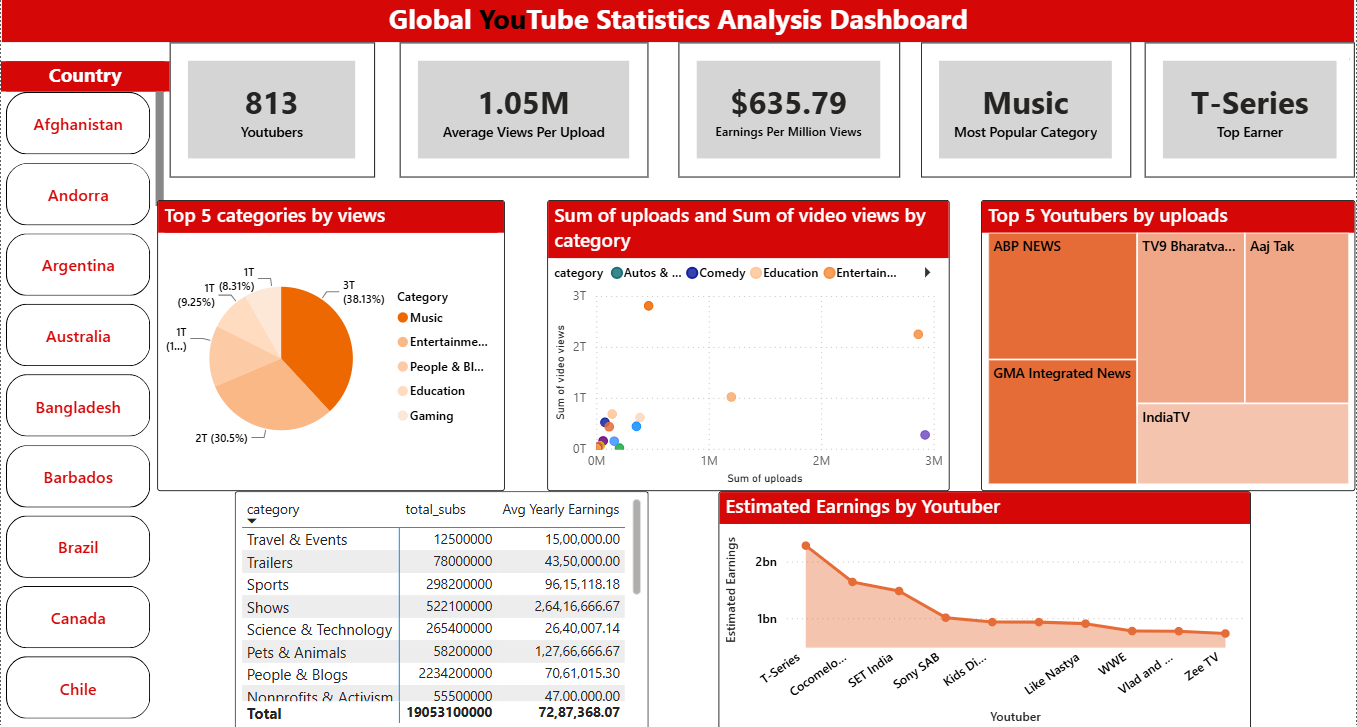

The page's visual inventory and layout, read from the dashboard file:
{"tool":"powerbi","page":{"name":"Page 1","canvas":[1326,720],"ordinal":0},"visuals":[{"type":"advancedSlicerVisual","fields":{"Values":["Global YouTube Statistics.Country"]},"box":[0,64.5,164.7,655.9],"z":0},{"type":"treemap","title":"Top 5 Youtubers by uploads","fields":{"Group":["Global YouTube Statistics.Youtuber"],"Values":["Sum(Global YouTube Statistics.uploads)"]},"box":[958.7,200.5,366.8,284.9],"z":1000},{"type":"pieChart","title":"Top 5 categories by views","fields":{"Category":["Global YouTube Statistics.category"],"Y":["Sum(Global YouTube Statistics.video views)"]},"box":[152.9,200.5,339.9,284.9],"z":2000},{"type":"textbox","box":[0,0,1325.6,46.5],"z":3000},{"type":"cardVisual","fields":{"Data":["Global YouTube Statistics.youtuber_count"]},"box":[165.1,46.5,200.5,132.1],"z":4000},{"type":"cardVisual","fields":{"Data":["Global YouTube Statistics.Earnings Per Million Views"]},"box":[662.8,46.5,216.4,132.1],"z":5000},{"type":"cardVisual","fields":{"Data":["Global YouTube Statistics.Average Views Per Upload"]},"box":[390.1,46.5,243.3,132.1],"z":6000},{"type":"cardVisual","fields":{"Data":["Global YouTube Statistics.most_popular_cat"]},"box":[900,46.5,205.4,132.1],"z":7000},{"type":"cardVisual","fields":{"Data":["Global YouTube Statistics.top earner"]},"box":[1118.9,46.5,206.7,132.1],"z":8000},{"type":"areaChart","fields":{"Category":["Global YouTube Statistics.Youtuber"],"Y":["Sum(Global YouTube Statistics.estimated_earning)"]},"box":[701.9,485.5,520.9,234.8],"z":9000},{"type":"pivotTable","fields":{"Rows":["Global YouTube Statistics.category"],"Values":["Global YouTube Statistics.total_subs","Global YouTube Statistics.Avg Yearly Earnings"]},"box":[228.7,485.5,404.8,234.8],"z":10000},{"type":"scatterChart","fields":{"X":["Sum(Global YouTube Statistics.uploads)"],"Y":["Sum(Global YouTube Statistics.video views)"],"Series":["Global YouTube Statistics.category"]},"box":[534.4,200.5,393.8,284.9],"z":11000}]}

Visuals, with their boxes in screenshot pixels (x1, y1, x2, y2), scaled from the page's 1326x720 canvas onto the 1357x727 screenshot:
advancedSlicerVisual - Global YouTube Statistics.Country: 0 65 169 726
"Top 5 Youtubers by uploads" treemap: 981 202 1356 490
"Top 5 categories by views" pieChart: 156 202 504 490
textbox: 0 0 1356 47
cardVisual - Global YouTube Statistics.youtuber_count: 169 47 374 180
cardVisual - Global YouTube Statistics.Earnings Per Million Views: 678 47 900 180
cardVisual - Global YouTube Statistics.Average Views Per Upload: 399 47 648 180
cardVisual - Global YouTube Statistics.most_popular_cat: 921 47 1131 180
cardVisual - Global YouTube Statistics.top earner: 1145 47 1356 180
areaChart - Global YouTube Statistics.Youtuber x Sum(Global YouTube Statistics.estimated_earning): 718 490 1251 726
pivotTable - Global YouTube Statistics.category x Global YouTube Statistics.total_subs: 234 490 648 726
scatterChart - Sum(Global YouTube Statistics.uploads) x Sum(Global YouTube Statistics.video views): 547 202 950 490
